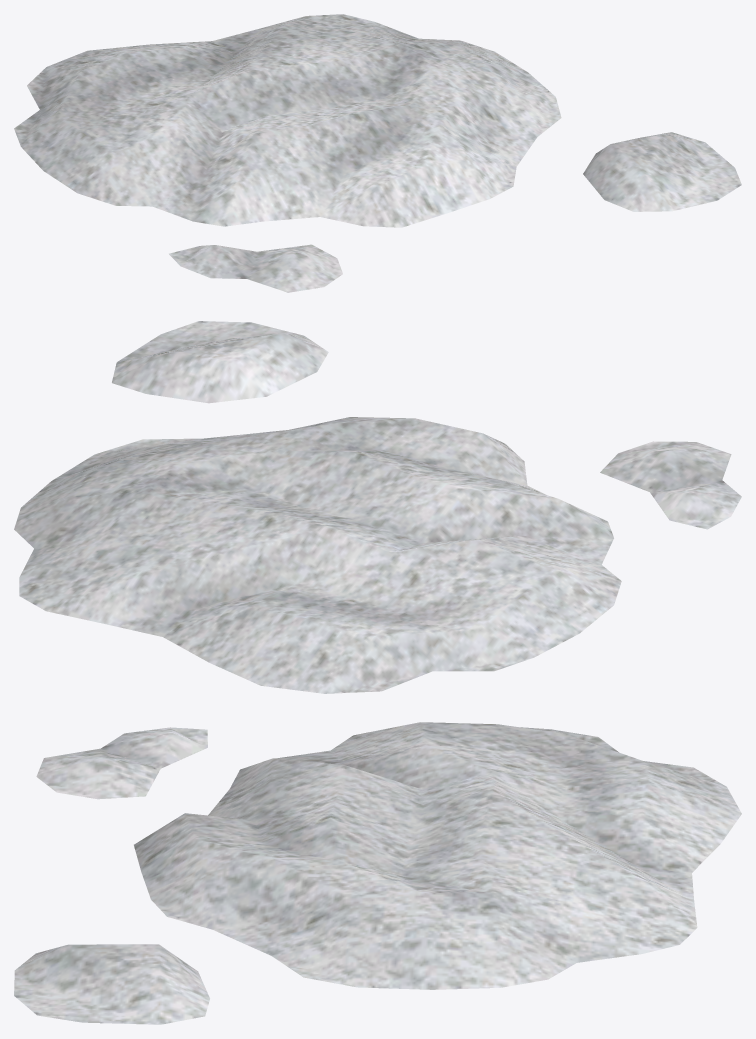
Rendered from snow01a.glb.
The picture shows the model from 3 angles, top to bottom: view 1: azimuth 30°, elevation 25°; view 2: azimuth 150°, elevation 25°; view 3: azimuth 270°, elevation 25°; orthographic projection. The views are drawn at different scales.
Parts seen in each view (by area): view 1: snow01a; view 2: snow01a; view 3: snow01a.
Part boxes in pixels (left/top/right/bottom): snow01a: left=14, top=14, right=741, bottom=292; snow01a: left=14, top=321, right=741, bottom=693; snow01a: left=14, top=722, right=741, bottom=1024.
Size of the model in its own units: 8.15 by 0.6384 by 8.35.
Materials: 1 (1 with a texture image).
